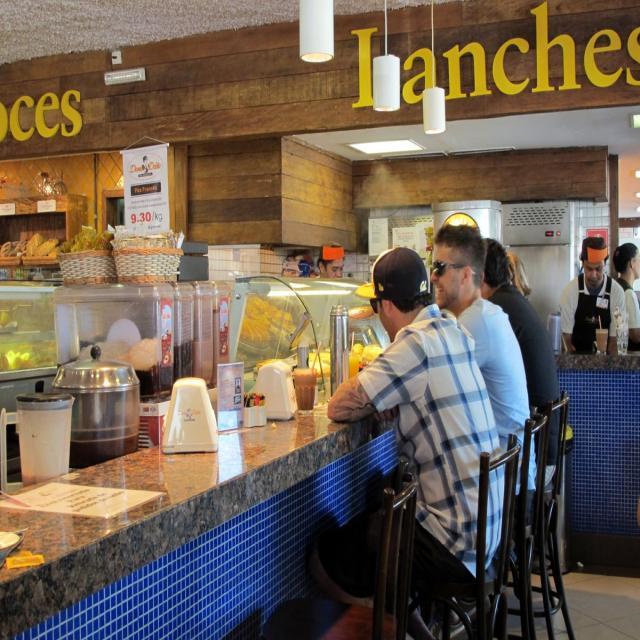body: (307, 245, 506, 640), (403, 223, 538, 640), (481, 235, 564, 492), (288, 466, 390, 590), (559, 235, 628, 357), (611, 240, 640, 352), (496, 240, 536, 302), (316, 240, 346, 280)
